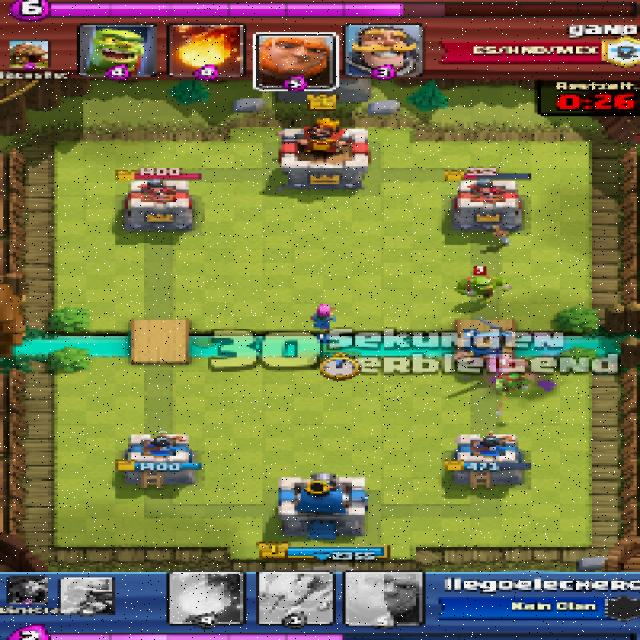Enemy-SpearGoblin: (497, 371, 536, 393)
Player-Archer: (309, 305, 339, 330)
Player-GoblinCage: (450, 277, 511, 304)
Player-Knight: (455, 332, 511, 358)
